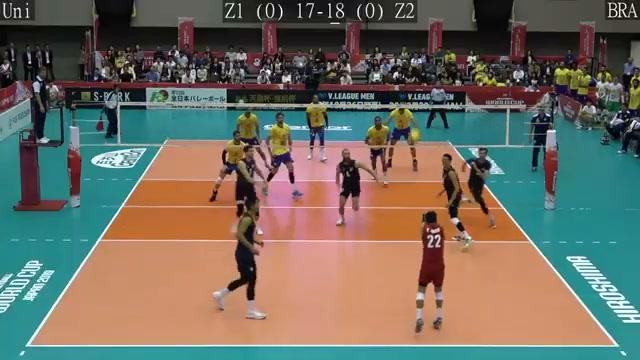ball: (403, 128, 424, 144)
